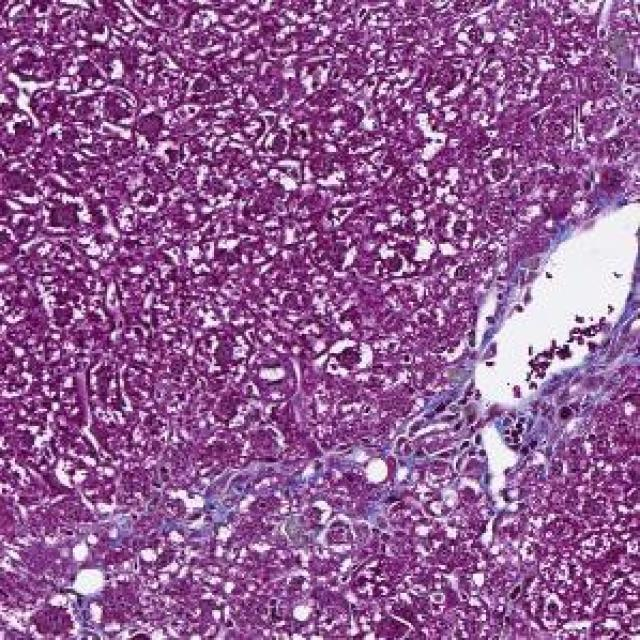fibrosis: (366, 387, 569, 501)
